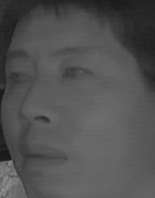eye: (57, 63, 94, 83), (2, 71, 34, 89)
mouth: (15, 142, 71, 172)
